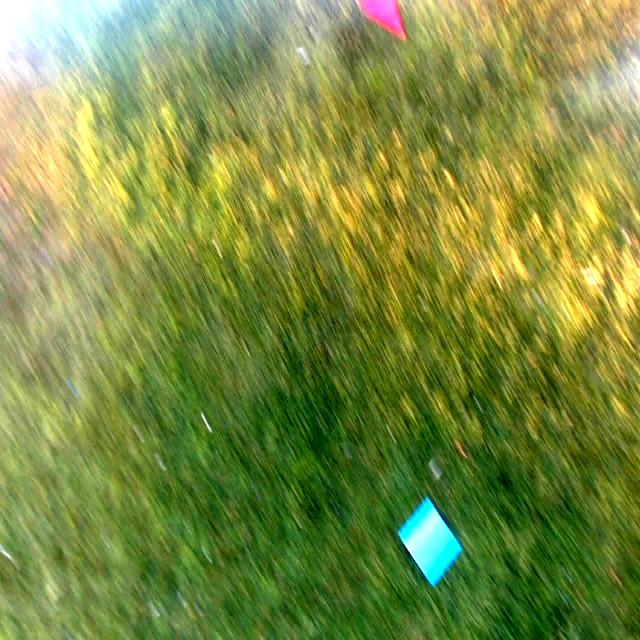blue_square: (400, 496, 463, 587)
